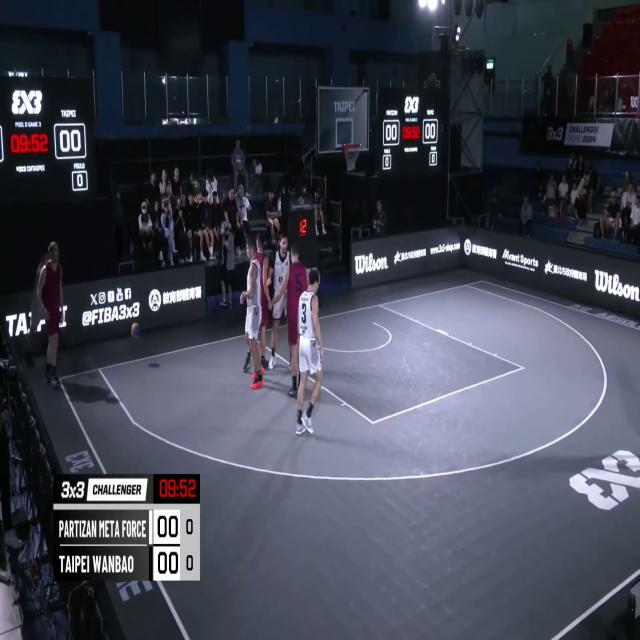ball: (132, 320, 142, 339)
hoop: (343, 141, 360, 176)
player: (276, 238, 309, 398), (241, 223, 273, 375), (296, 266, 324, 436), (38, 242, 64, 386), (240, 234, 264, 388), (267, 228, 291, 373)
